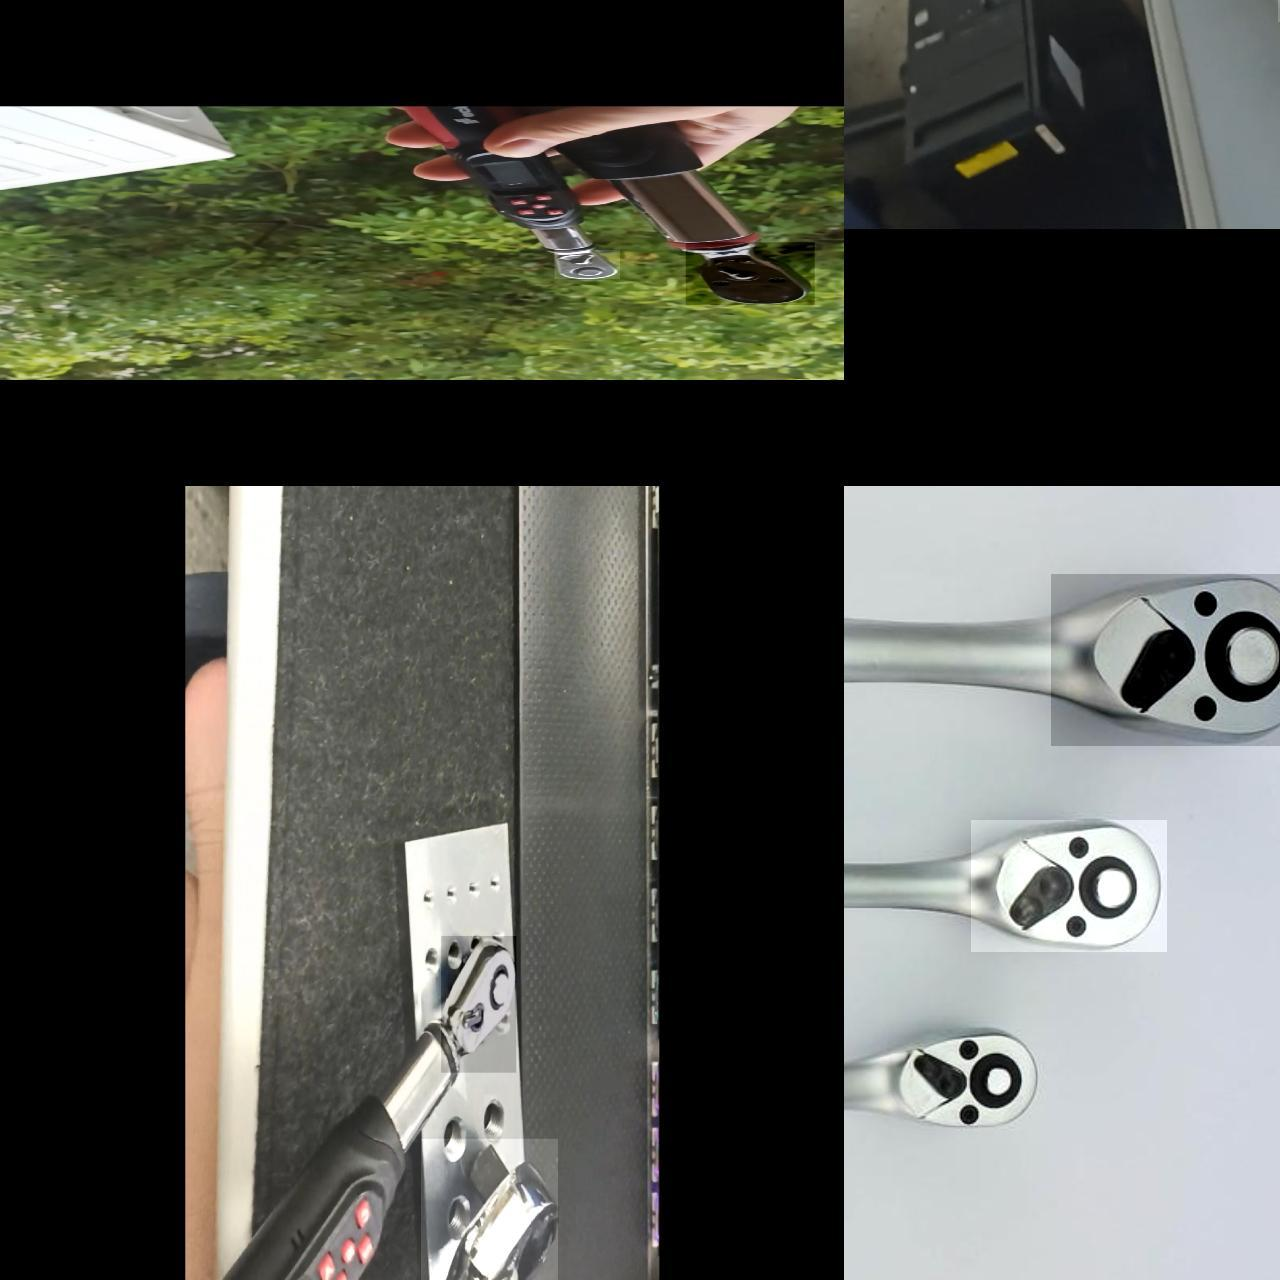Tool: (1050, 574, 1280, 746), (970, 820, 1166, 952), (420, 1139, 557, 1280), (879, 1028, 1041, 1128), (440, 936, 516, 1073), (684, 242, 814, 305), (553, 250, 619, 280)
